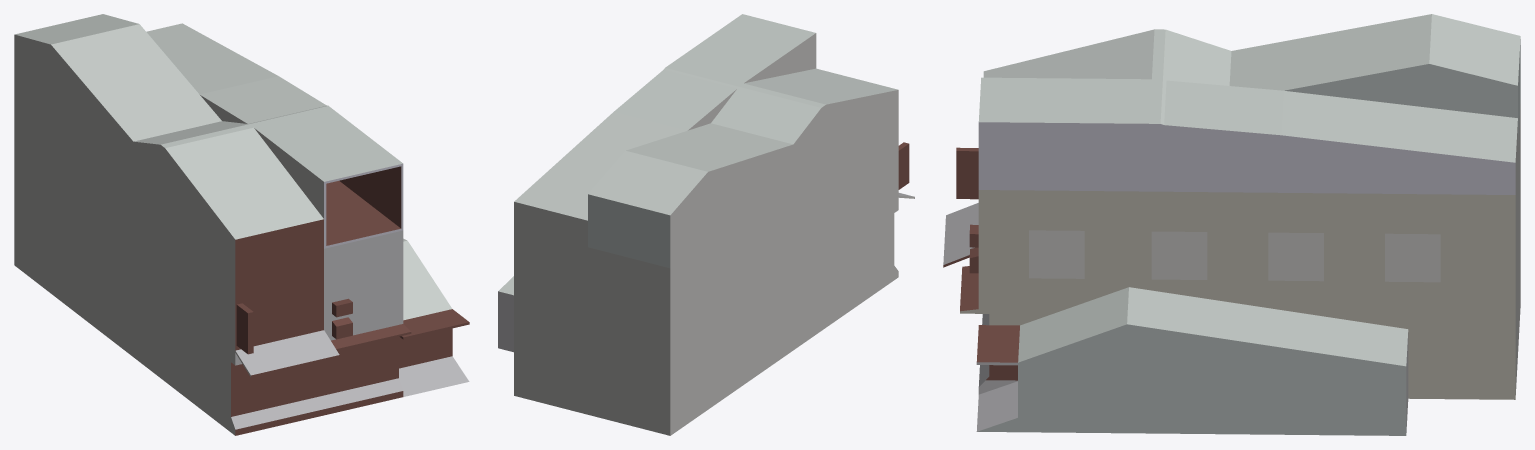
Rendered from Pasha_Block_07.fbx.
3 views of the same model, side by side, from view 1: azimuth 30°, elevation 25°; view 2: azimuth 150°, elevation 25°; view 3: azimuth 270°, elevation 25° (orthographic). The views are drawn at different scales.
Visible parts, largest first — view 1: Pasha_Block_07; view 2: Pasha_Block_07; view 3: Pasha_Block_07.
Part boxes in pixels (x1,y1,x2,y2): Pasha_Block_07: (14,14,469,435); Pasha_Block_07: (498,14,914,435); Pasha_Block_07: (943,14,1520,435).
Bounding box in the file's own units: 1551 × 1544 × 2780.
